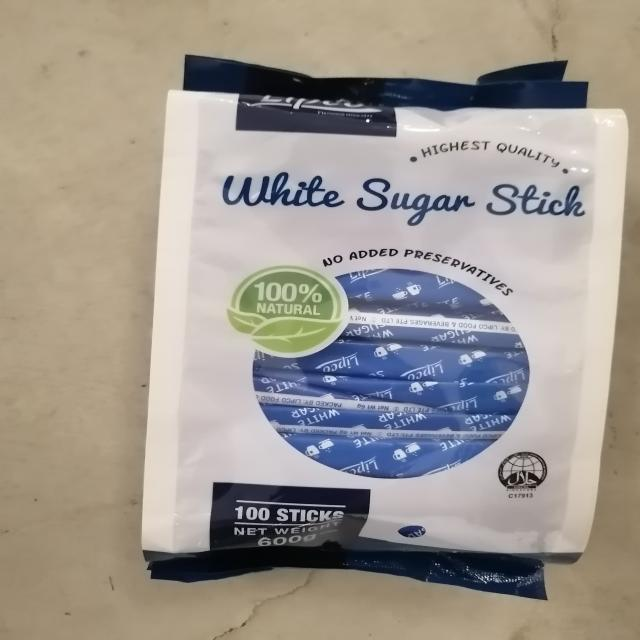object_name: (159, 90, 576, 563)
